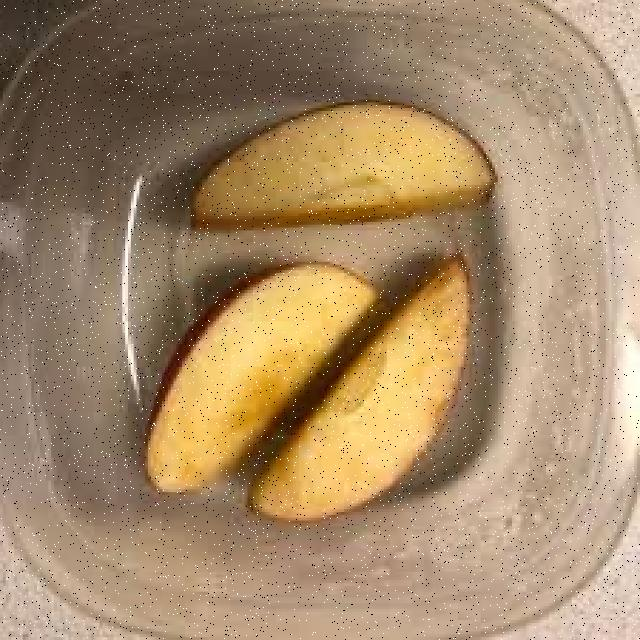Apple: (249, 266, 469, 519), (144, 262, 355, 492), (185, 94, 495, 230)
